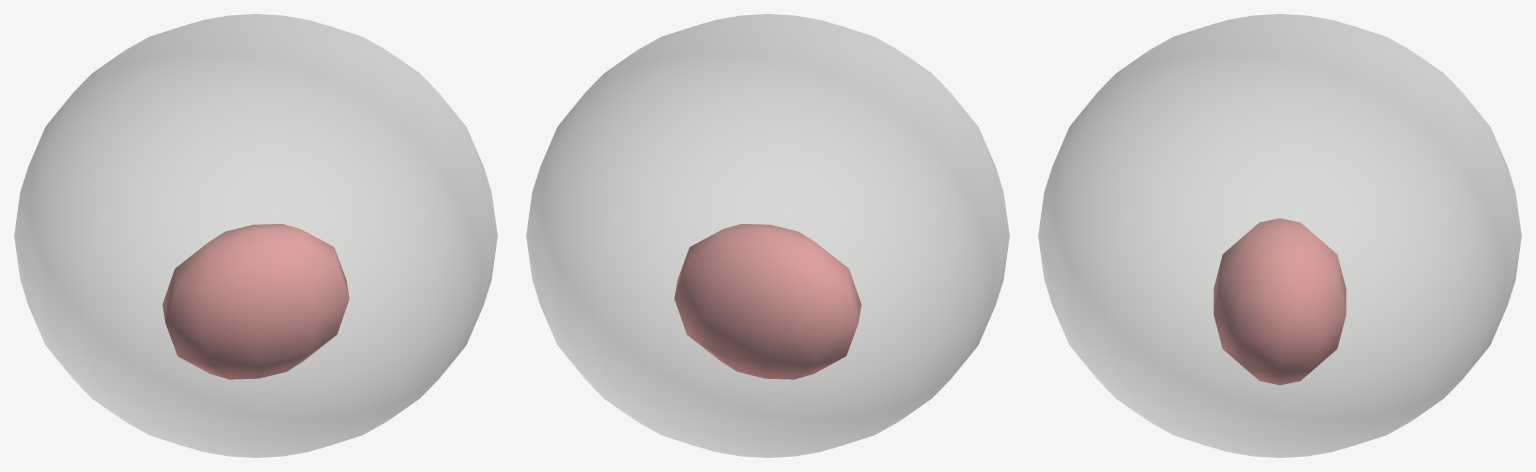
File: paperweight.glb
3 views of the same model, side by side, from view 1: azimuth 30°, elevation 25°; view 2: azimuth 150°, elevation 25°; view 3: azimuth 270°, elevation 25° (orthographic).
Visible parts, largest first — view 1: paperweight; view 2: paperweight; view 3: paperweight.
Part boxes in pixels (<box>): paperweight: <box>14,14,497,457</box>; paperweight: <box>526,14,1009,457</box>; paperweight: <box>1038,14,1521,457</box>.
Bounding box in the file's own units: 0.1 × 0.09 × 0.1.
